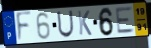6: (98, 6, 117, 37), (36, 11, 52, 41)
E: (115, 6, 136, 35)
F: (15, 10, 33, 44)
K: (77, 10, 93, 37)
U: (56, 9, 75, 39)
